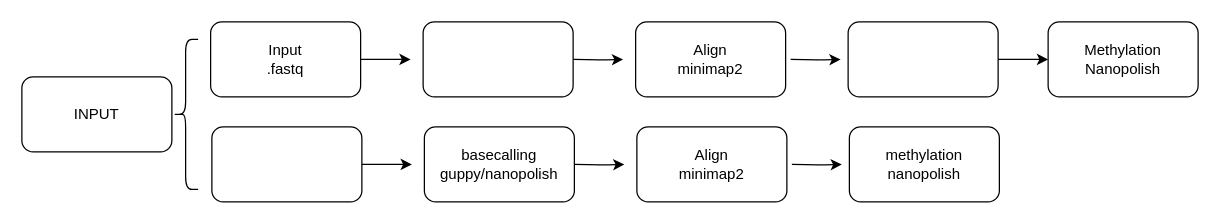
Some shapes in this 1220 by 224 pixel diagram are drawn without their labels. The centre of each missing label's shape, as x and y in pixels:
"CNV/SV Sniffles2" goes at (x=922, y=59).
"fastqc" goes at (x=497, y=59).
"Input .fast5" goes at (x=286, y=164).
